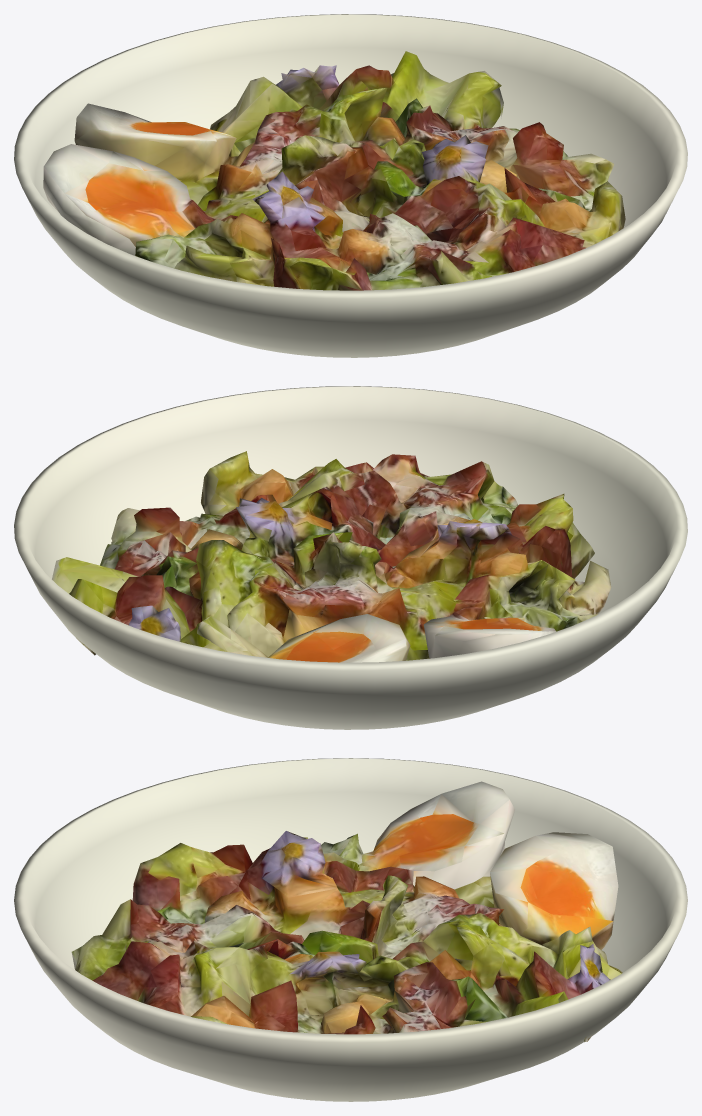
3 views of the same model, one above another, from view 1: azimuth 30°, elevation 25°; view 2: azimuth 150°, elevation 25°; view 3: azimuth 270°, elevation 25° (orthographic).
Visible parts, largest first — view 1: Salad; view 2: Salad; view 3: Salad.
Boxes of the visible parts, box(x1,y1,x2,y2) form: Salad: box(14, 14, 687, 357); Salad: box(14, 386, 687, 729); Salad: box(14, 758, 687, 1101).
Bounding box in the file's own units: 0.0555 × 0.0139 × 0.0555.
1 material, 1 textured.
